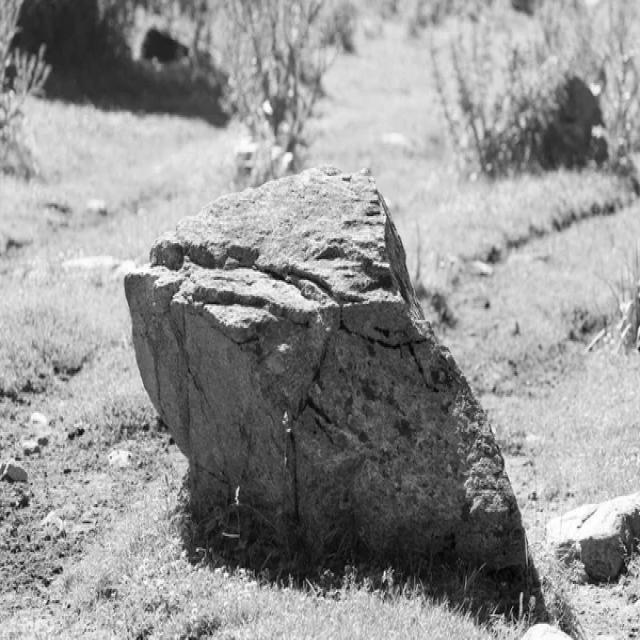Stone: (125, 166, 526, 570)
